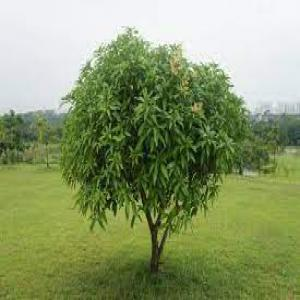Tree: (57, 23, 248, 270)
